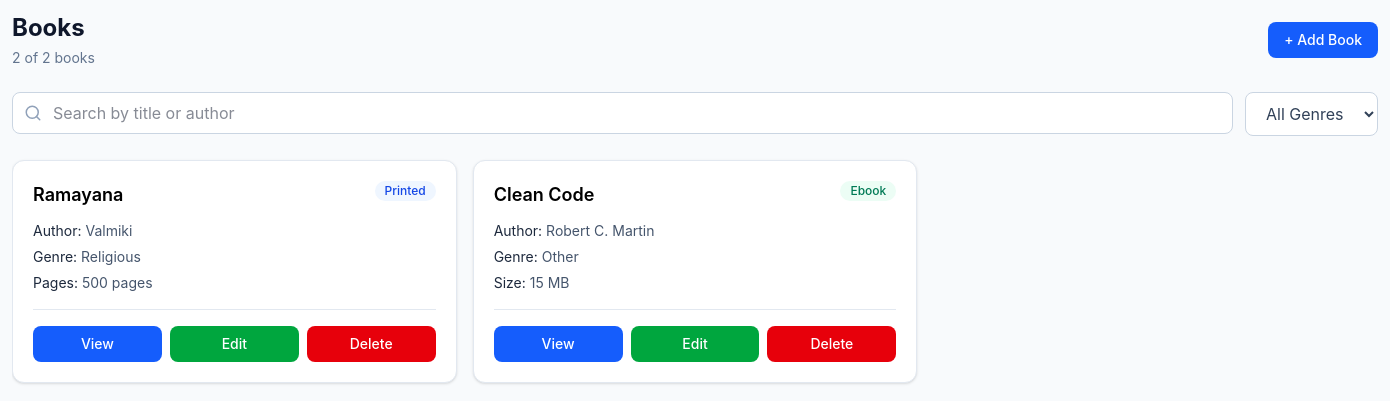
Test: Books Page Integration › filters books live by search query title or author
Type "Robert" into the field with placeholder "Search by title or author".
click(622, 113); type("Robert")  # box [12, 92, 1233, 134]
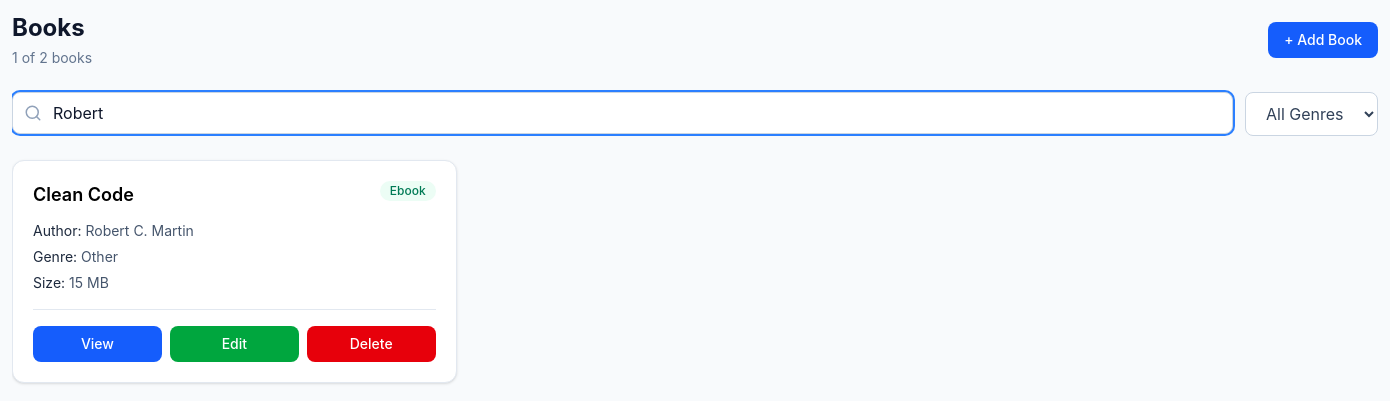
expect the heading "Clean Code" is shown: met, box [33, 181, 142, 209]
expect the text "1 of 2 books" is shown: met, box [12, 48, 92, 68]
expect the heading "Ramayana" is gone: met
